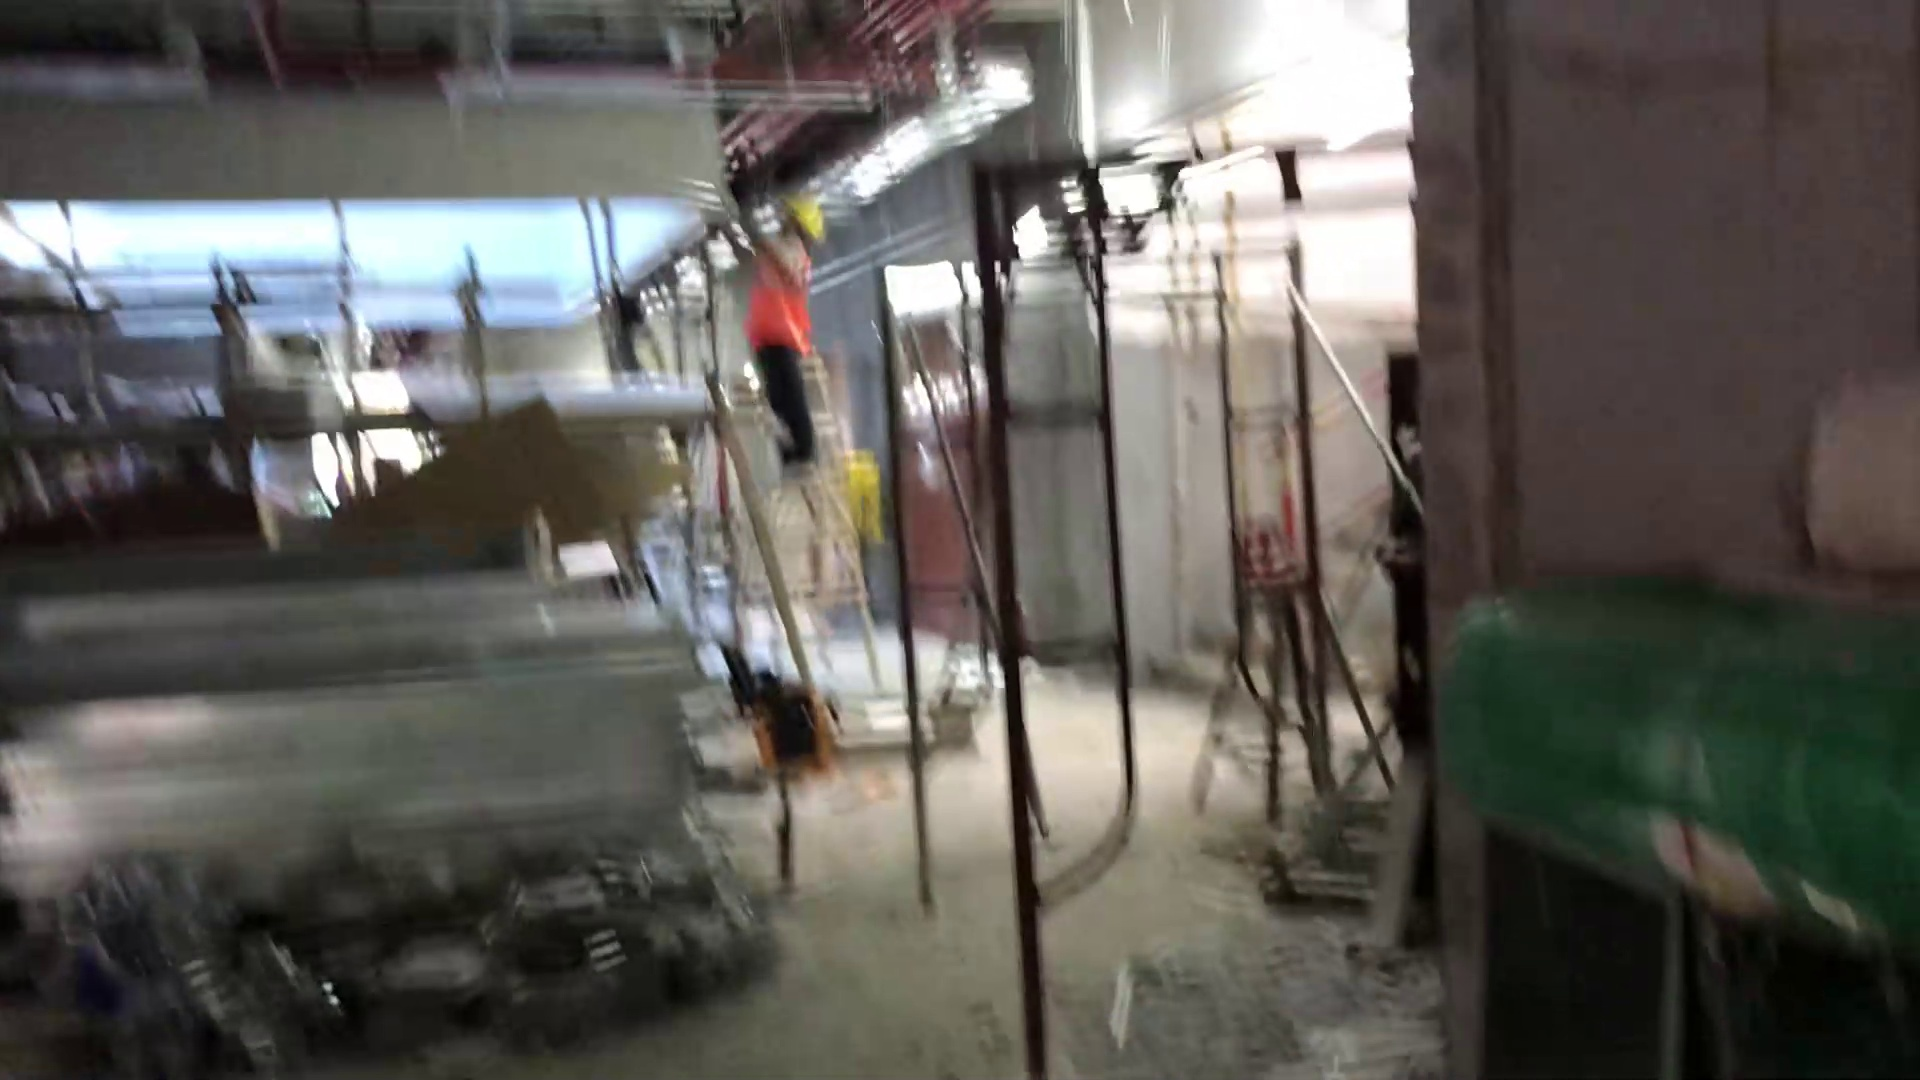helmet: (787, 194, 836, 245)
person: (711, 179, 820, 477)
vest: (754, 230, 817, 353)
